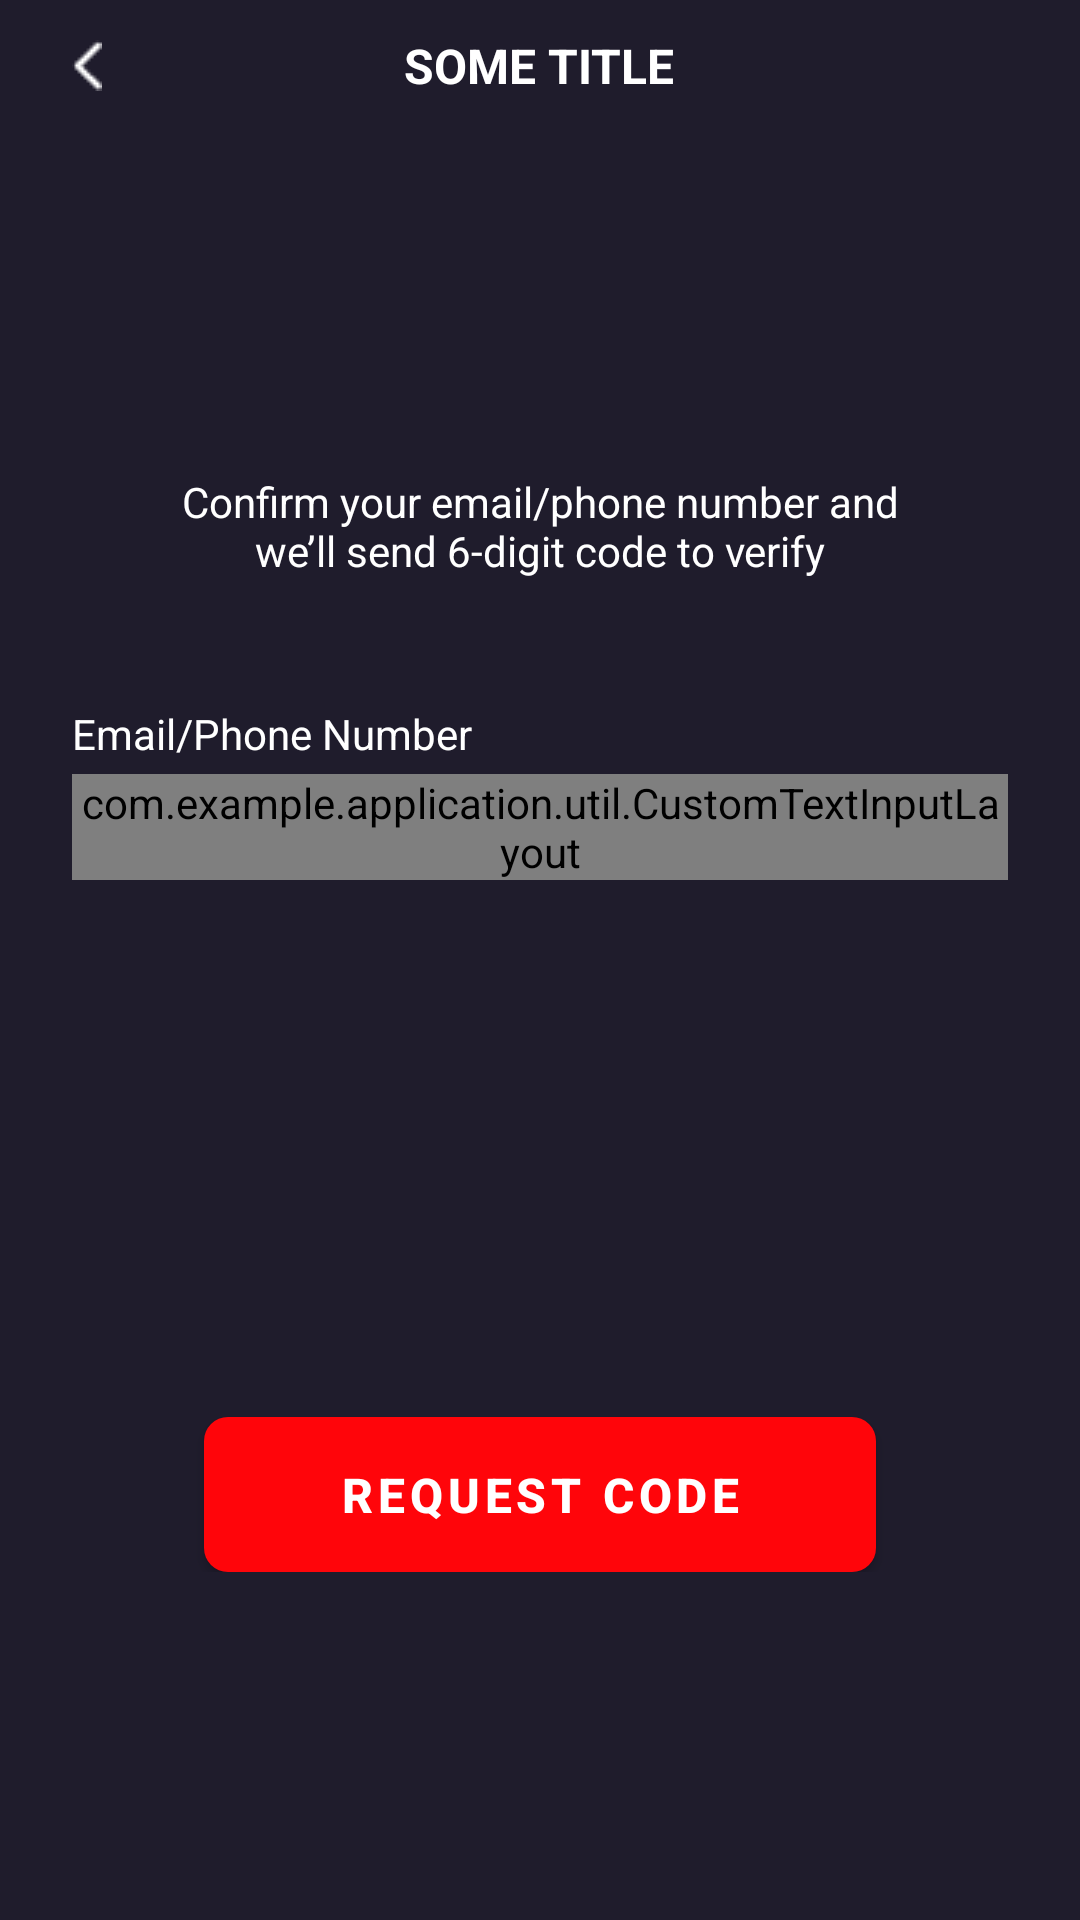

Where to tap for icons on this 1080 x 1920 app screen, as [x,y]:
back: [88,66]
